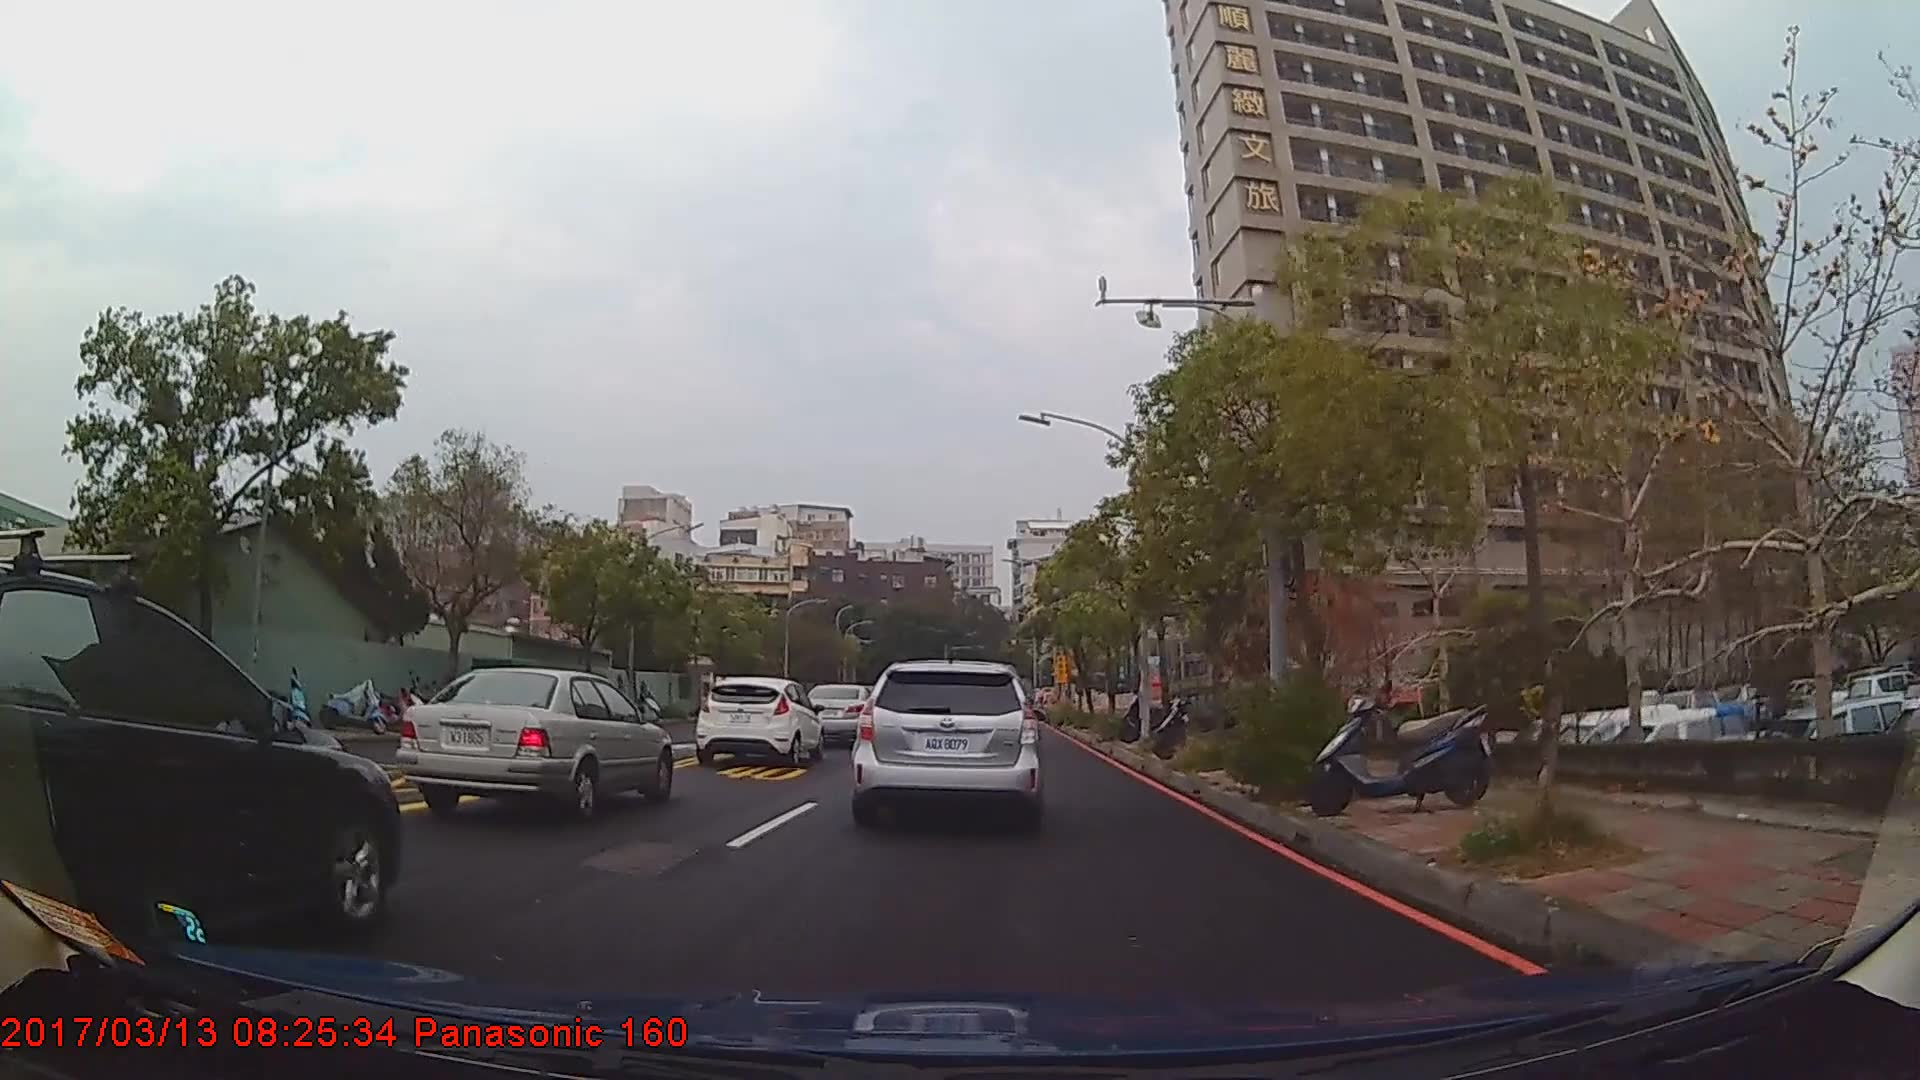vehicle: (0, 563, 400, 968), (396, 666, 673, 822), (849, 659, 1039, 827), (694, 675, 824, 766), (802, 683, 880, 745)
